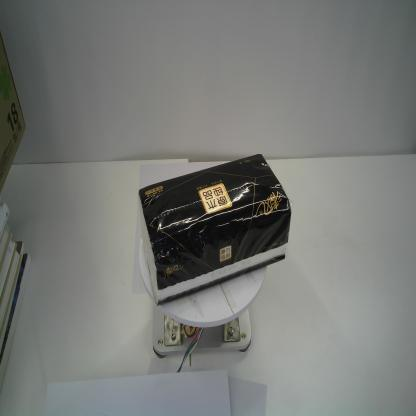Tissue: (136, 153, 291, 307)
